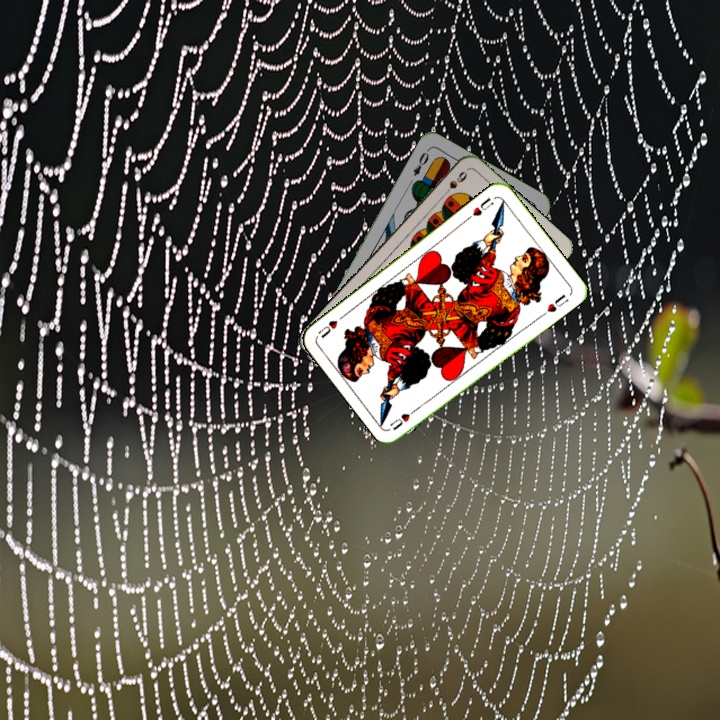EO: (409, 145, 432, 179)
HU: (386, 403, 422, 433), (468, 194, 496, 219)
S9: (438, 167, 470, 200)
